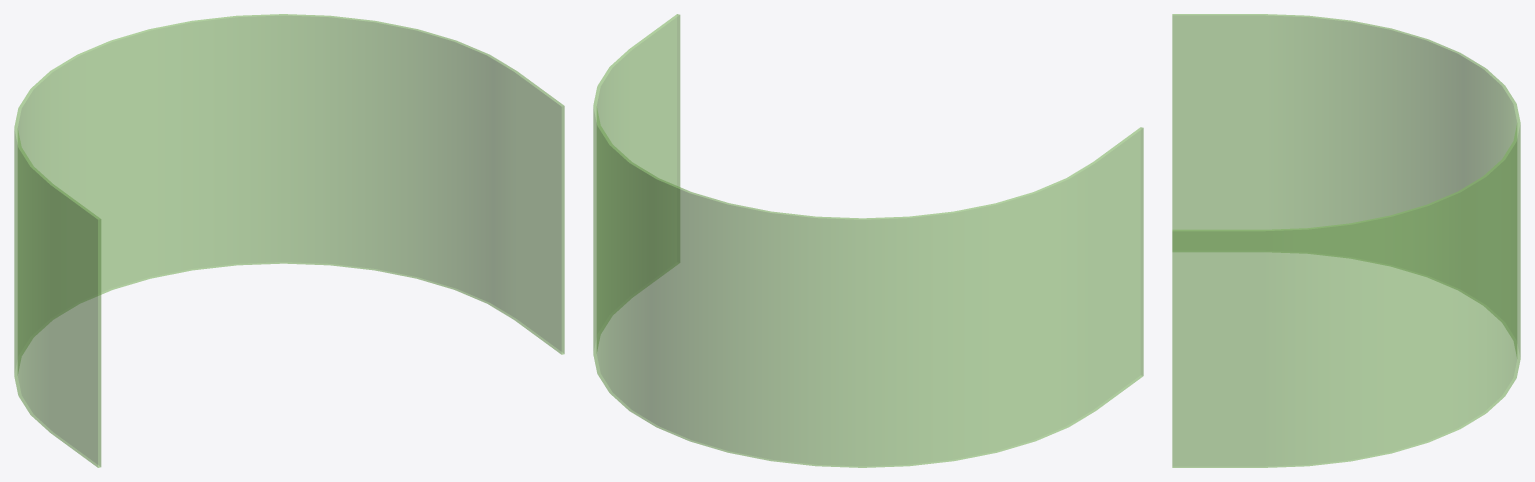
3 views of the same model, side by side, from view 1: azimuth 30°, elevation 25°; view 2: azimuth 150°, elevation 25°; view 3: azimuth 270°, elevation 25° (orthographic). The views are drawn at different scales.
Parts seen in each view (by area): view 1: id11; view 2: id11; view 3: id11.
Boxes of the visible parts, box(x1,y1,x2,y2) form: id11: box(14, 14, 564, 467); id11: box(593, 14, 1143, 467); id11: box(1172, 14, 1520, 467).
Size of the model in its own units: 0.9652 by 0.4905 by 0.6541.
